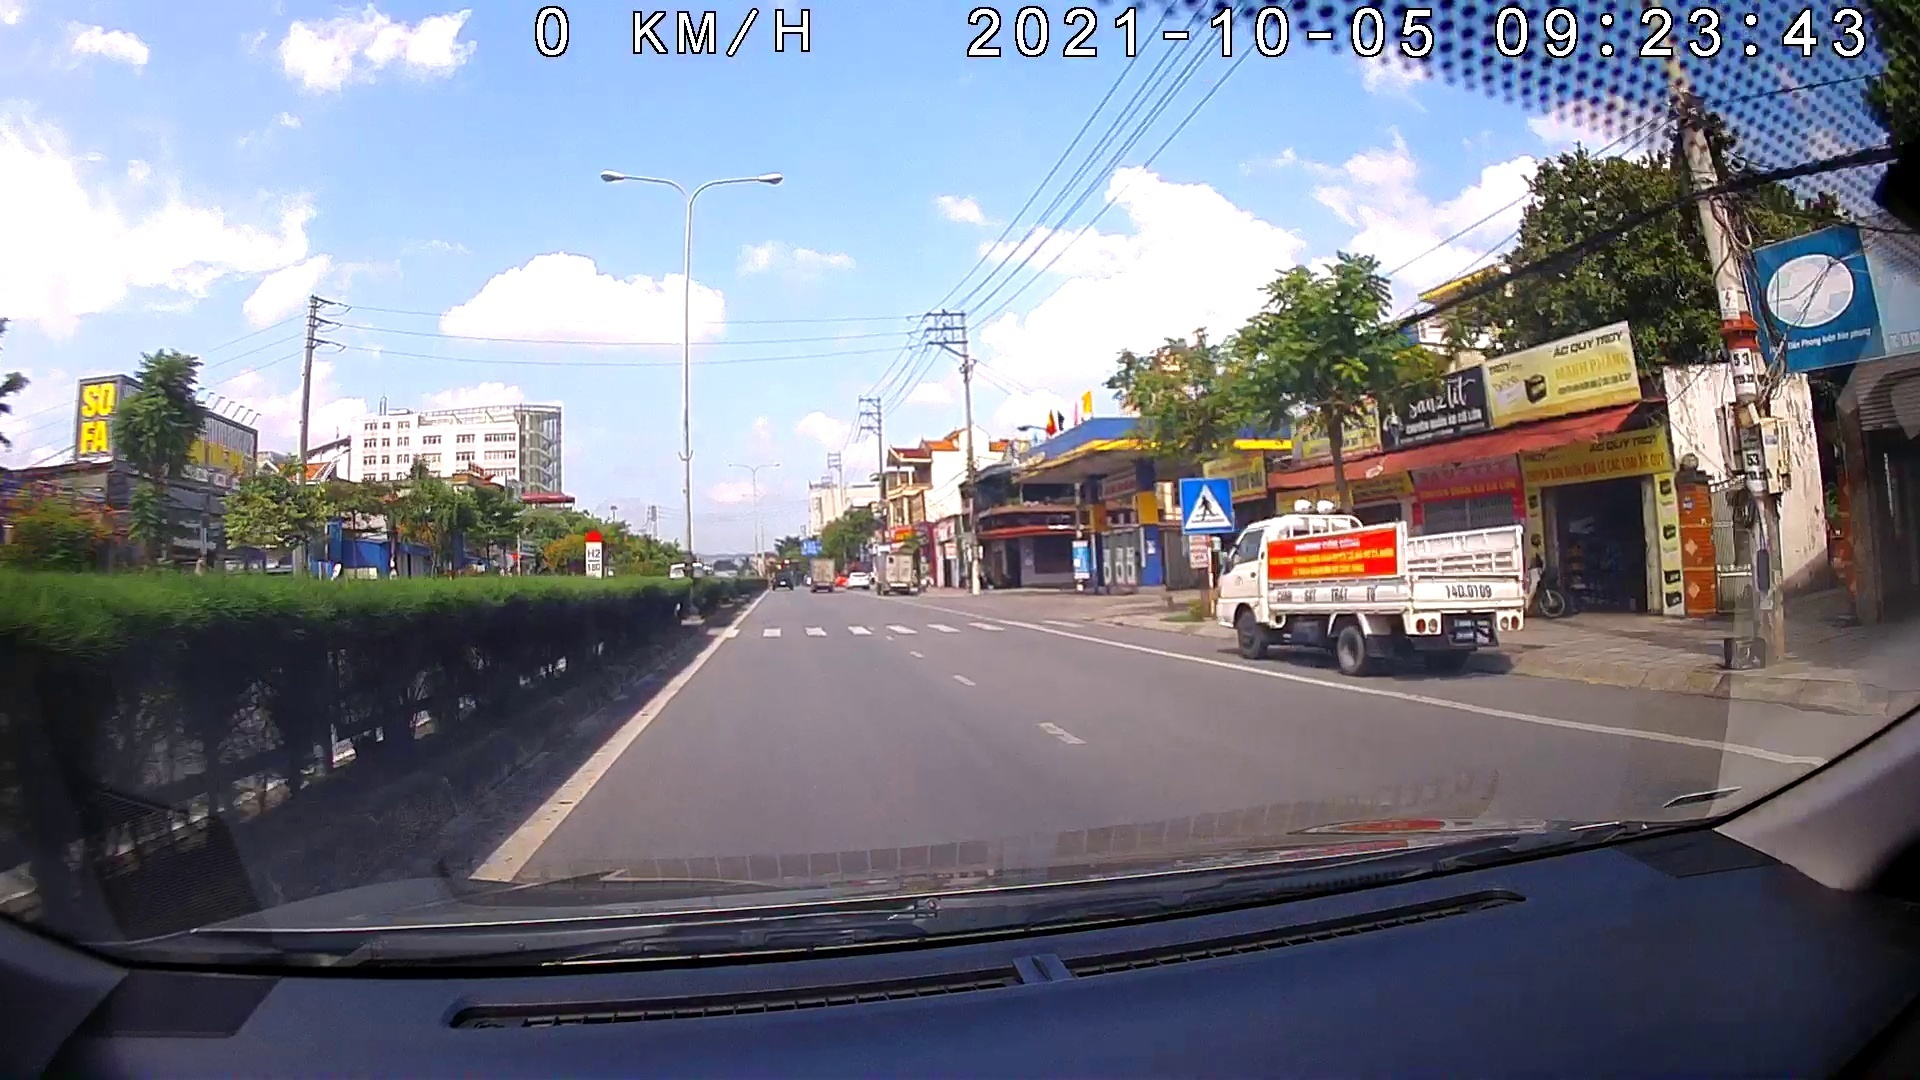Nguoi di bo: (1178, 476, 1232, 533)
